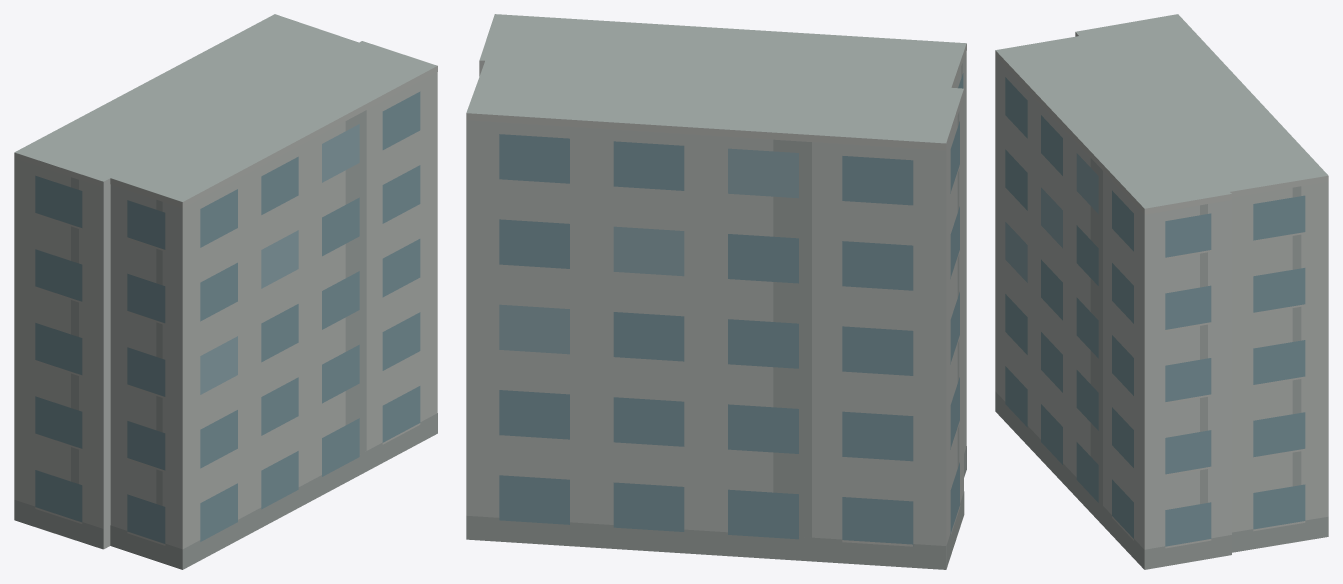
Rendered from survey-upis-32973451.glb.
The picture shows the model from 3 angles, left to right: view 1: azimuth 30°, elevation 25°; view 2: azimuth 150°, elevation 25°; view 3: azimuth 270°, elevation 25°; orthographic projection. The views are drawn at different scales.
Visible parts, largest first — view 1: survey-upis-32973451.tmp; view 2: survey-upis-32973451.tmp; view 3: survey-upis-32973451.tmp.
Part boxes in pixels (x1=…): survey-upis-32973451.tmp: x1=14, y1=14, x2=437, y2=569; survey-upis-32973451.tmp: x1=466, y1=14, x2=966, y2=569; survey-upis-32973451.tmp: x1=995, y1=14, x2=1328, y2=569.
Bounding box in the file's own units: 16.78 × 14.5 × 12.14.
